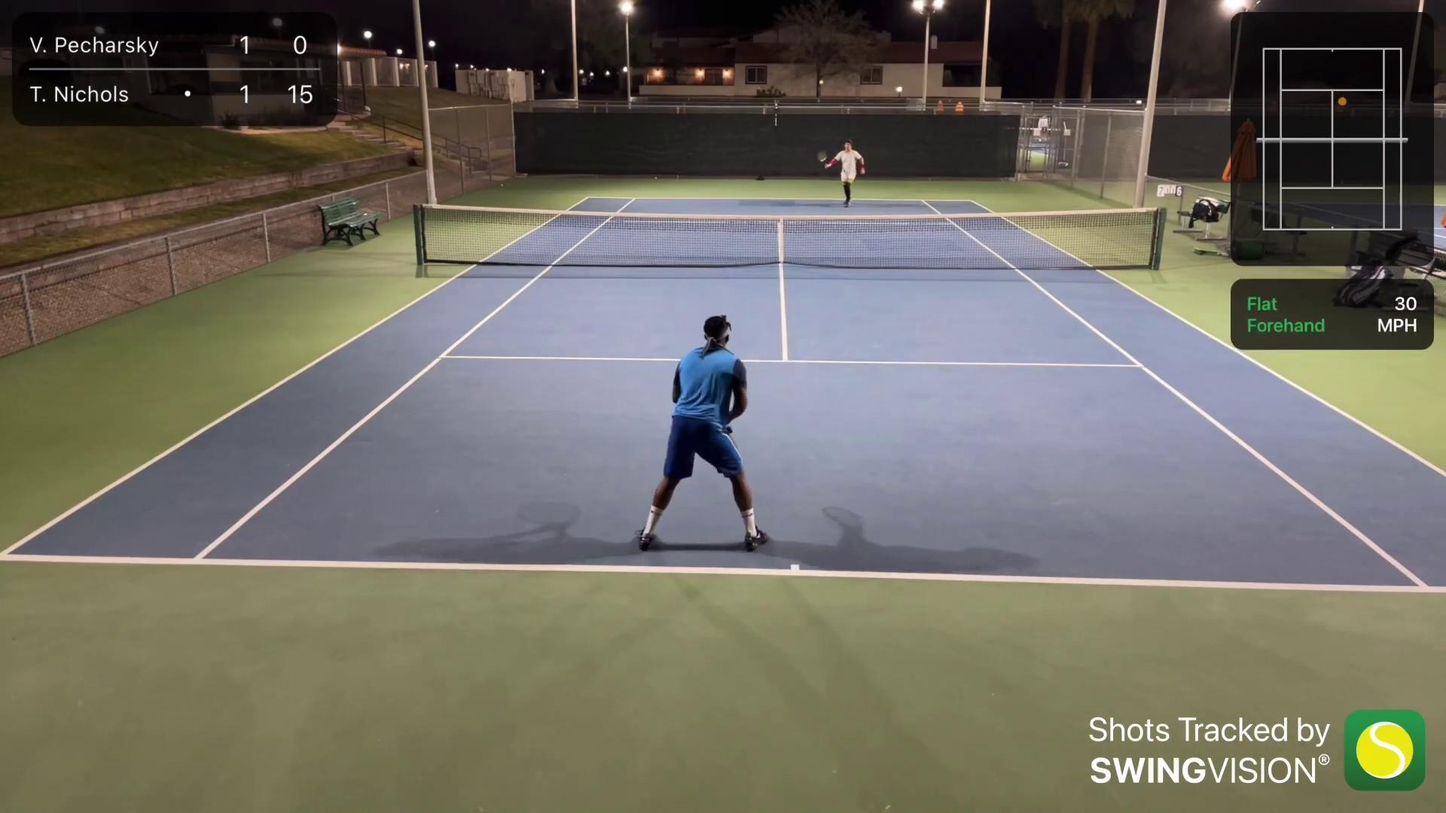ball: (818, 78, 825, 85)
